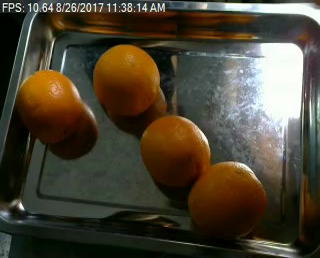Orange: (188, 160, 267, 237), (140, 113, 211, 184), (93, 44, 160, 117), (14, 69, 81, 141)
